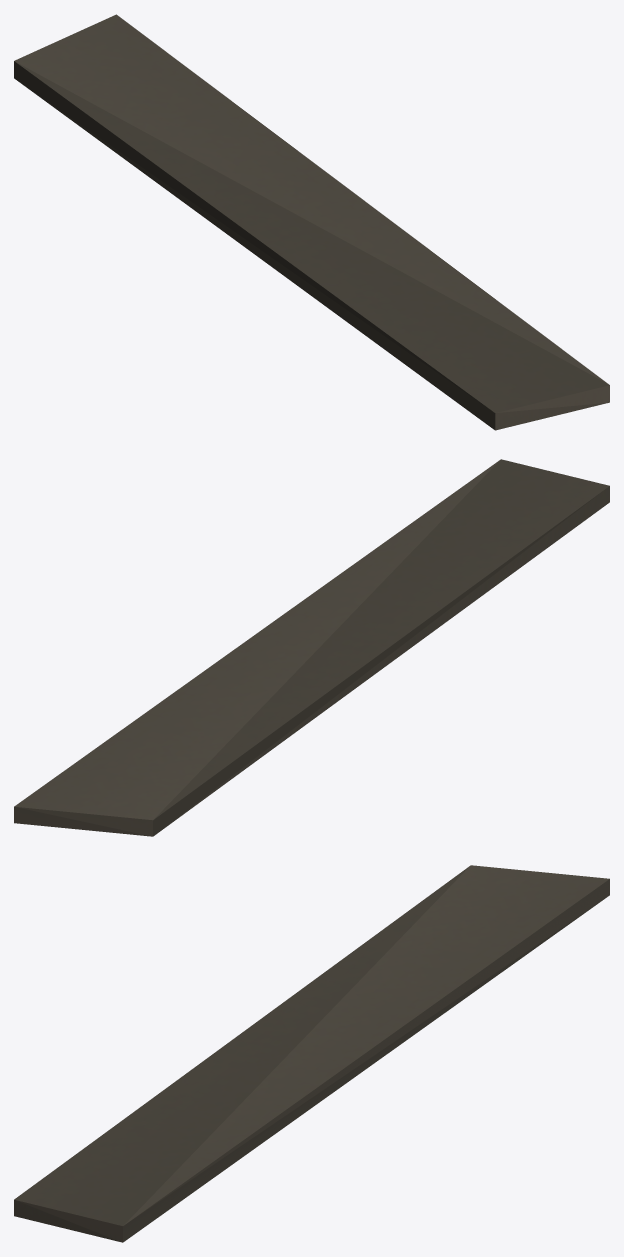
File: Wood_1A_LOD.fbx
The picture shows the model from 3 angles, top to bottom: view 1: azimuth 30°, elevation 25°; view 2: azimuth 150°, elevation 25°; view 3: azimuth 330°, elevation 25°; orthographic projection. The views are drawn at different scales.
Parts seen in each view (by area): view 1: pCube994; view 2: pCube994; view 3: pCube994.
Part boxes in pixels (x1=…): pCube994: x1=14, y1=14, x2=609, y2=430; pCube994: x1=14, y1=459, x2=609, y2=836; pCube994: x1=14, y1=865, x2=609, y2=1242.
Bounding box in the file's own units: 0.6 × 0.08 × 4.2.
